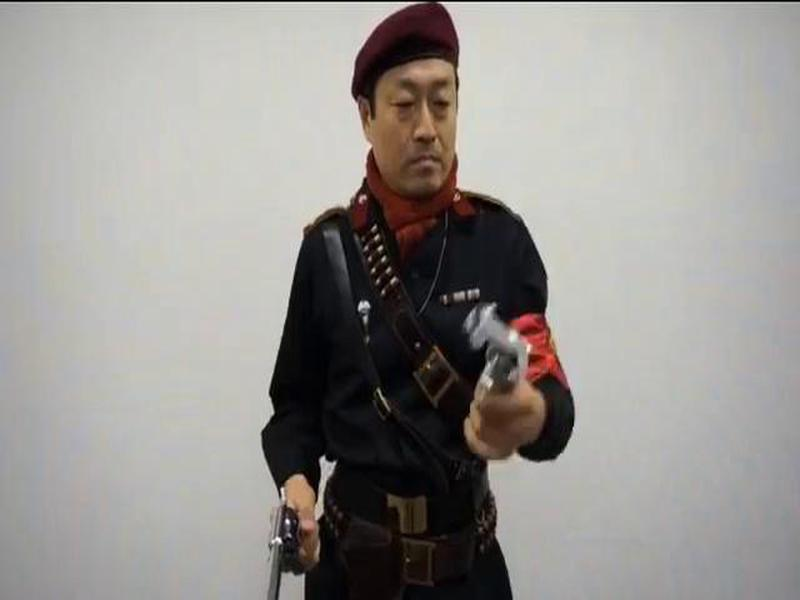Revolver: (451, 283, 563, 429), (246, 483, 339, 600)
